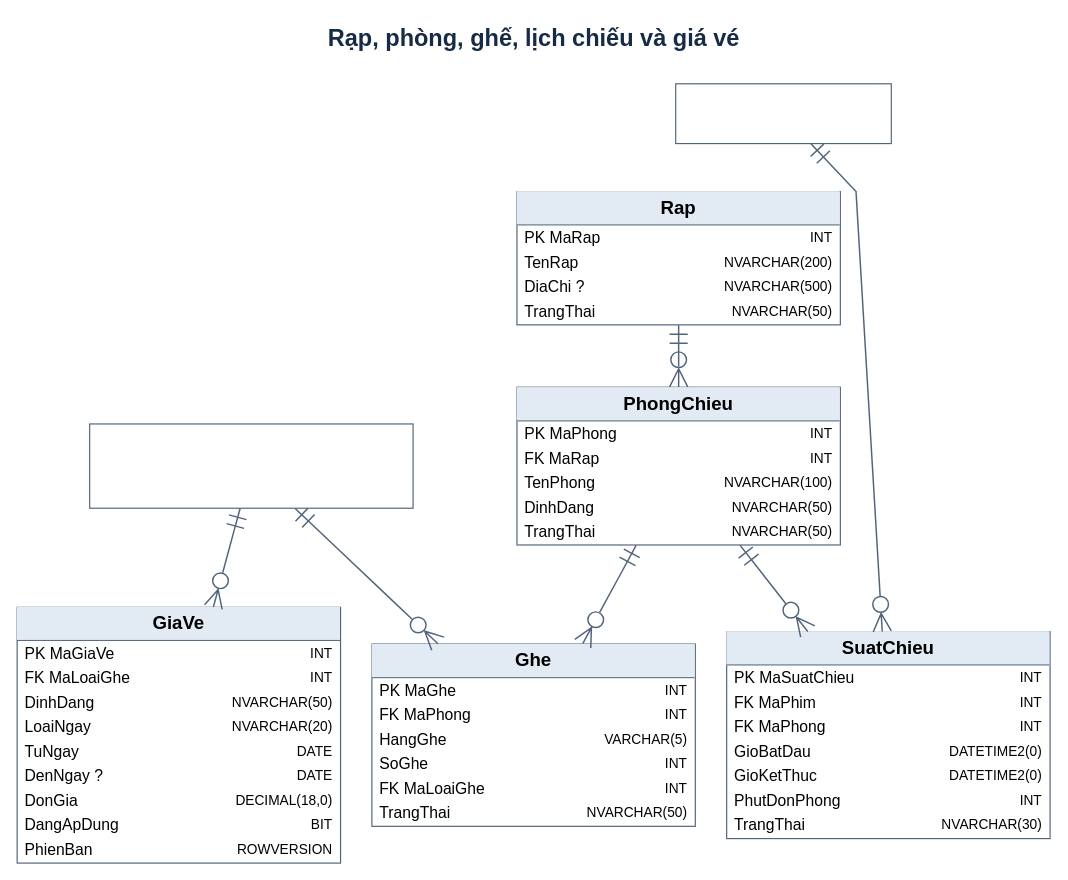
Some shapes in this 1068 by 880 pixel diagram are drawn without their labels. Here are the shapes that lost their labels. From the top down, the centre of each, then its label:
(x=783, y=113): Phim ↗ PK MaPhim
(x=251, y=465): LoaiGhe PK MaLoai INT UQ TenLoai NVARCHAR(50)
